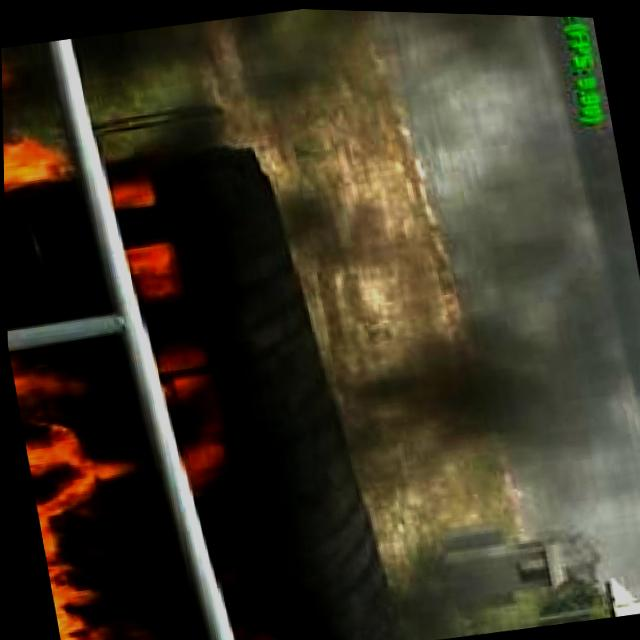helmet: (8, 341, 167, 640), (117, 173, 204, 380), (1, 51, 70, 206), (166, 383, 232, 490)
no_helmet: (193, 4, 640, 640)
